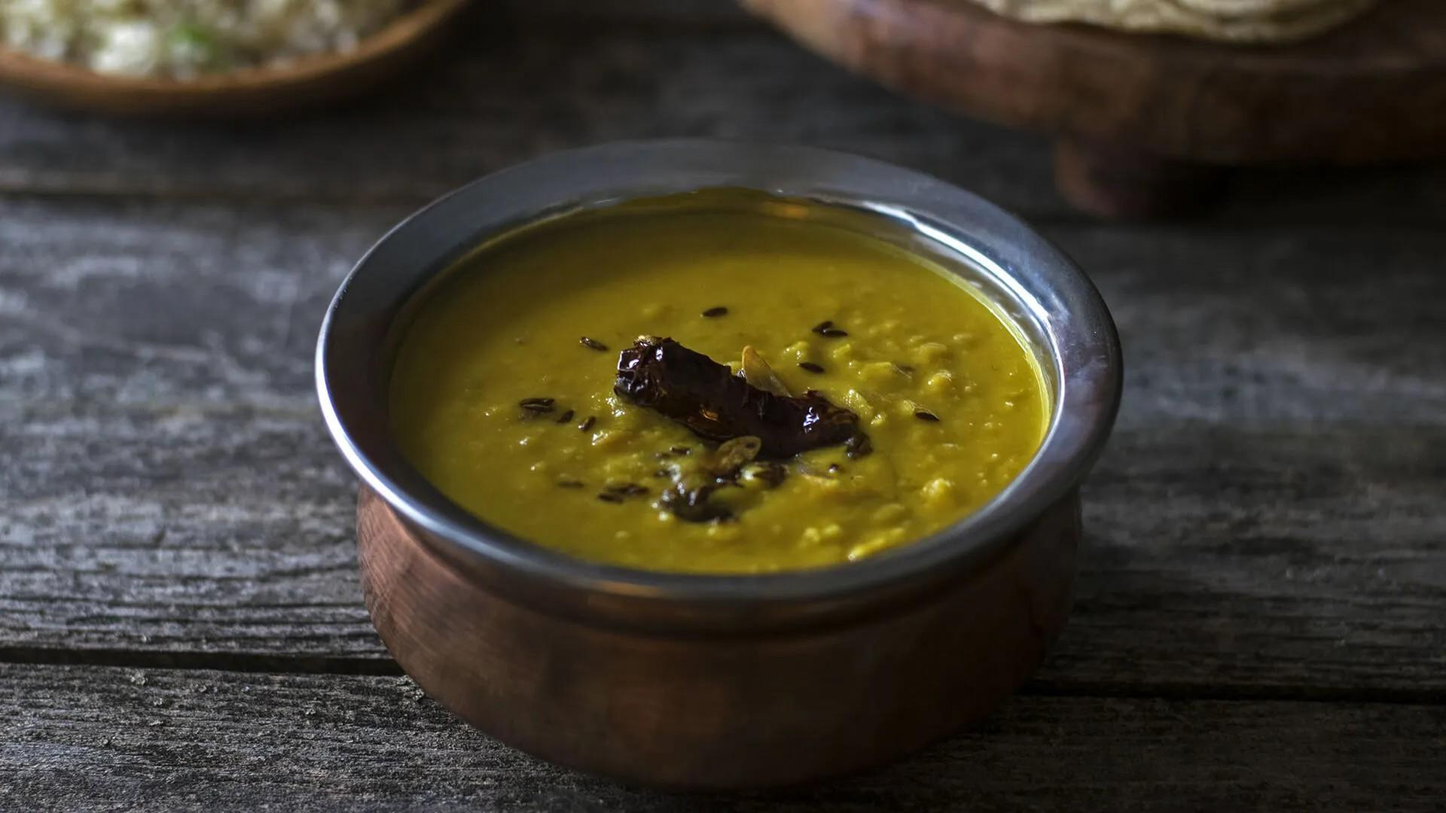Dal: (386, 210, 1047, 572)
